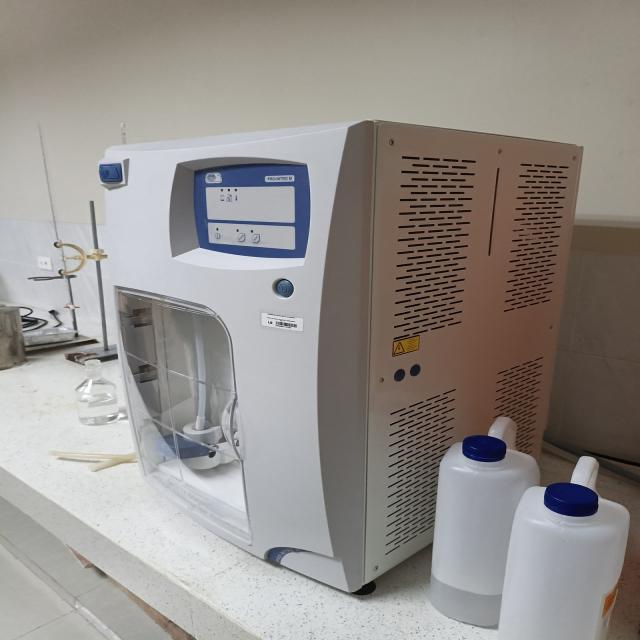Destilacion por Arrastre de Vapor: (98, 120, 581, 592)
